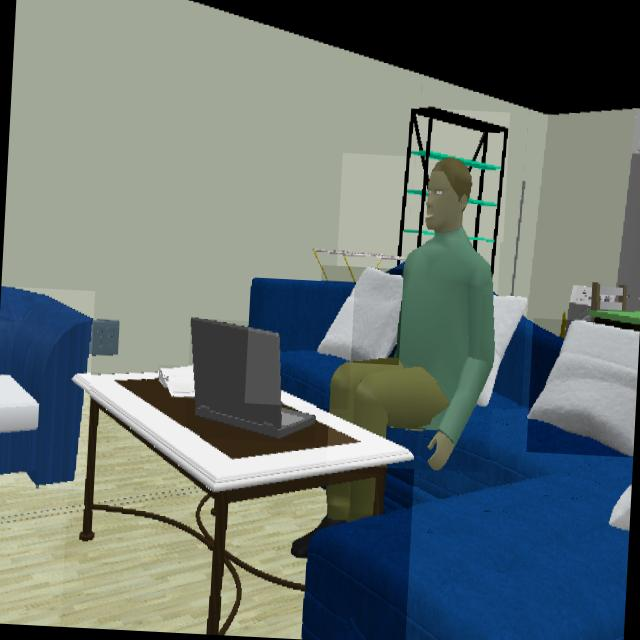book: (158, 366, 195, 400)
laptop: (191, 318, 315, 441)
person: (329, 158, 495, 470), (328, 474, 382, 522)
pillow: (528, 320, 640, 458), (317, 268, 403, 362), (477, 297, 527, 408)
shelf: (410, 108, 509, 242)
sofa: (300, 320, 633, 640), (0, 287, 94, 487), (248, 278, 355, 408)
table: (74, 374, 415, 635)
